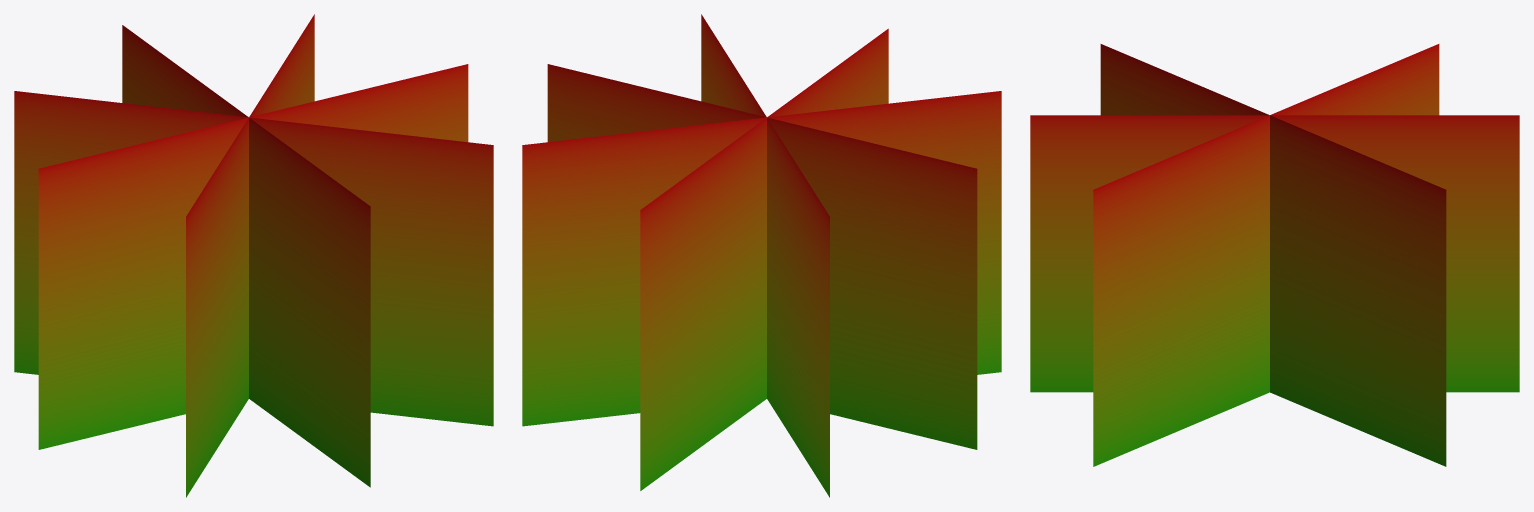
The model's file is grama3.fbx.
3 renders of one model, left to right at view 1: azimuth 30°, elevation 25°; view 2: azimuth 150°, elevation 25°; view 3: azimuth 270°, elevation 25°, orthographic.
Visible parts, largest first — view 1: _14a5_Var3_LOD3; view 2: _14a5_Var3_LOD3; view 3: _14a5_Var3_LOD3.
Part boxes in pixels (x1,y1,x2,y2): _14a5_Var3_LOD3: (14, 14, 493, 497); _14a5_Var3_LOD3: (522, 14, 1001, 497); _14a5_Var3_LOD3: (1030, 44, 1519, 466).
Size of the model in its own units: 60.73 by 37.97 by 60.73.
